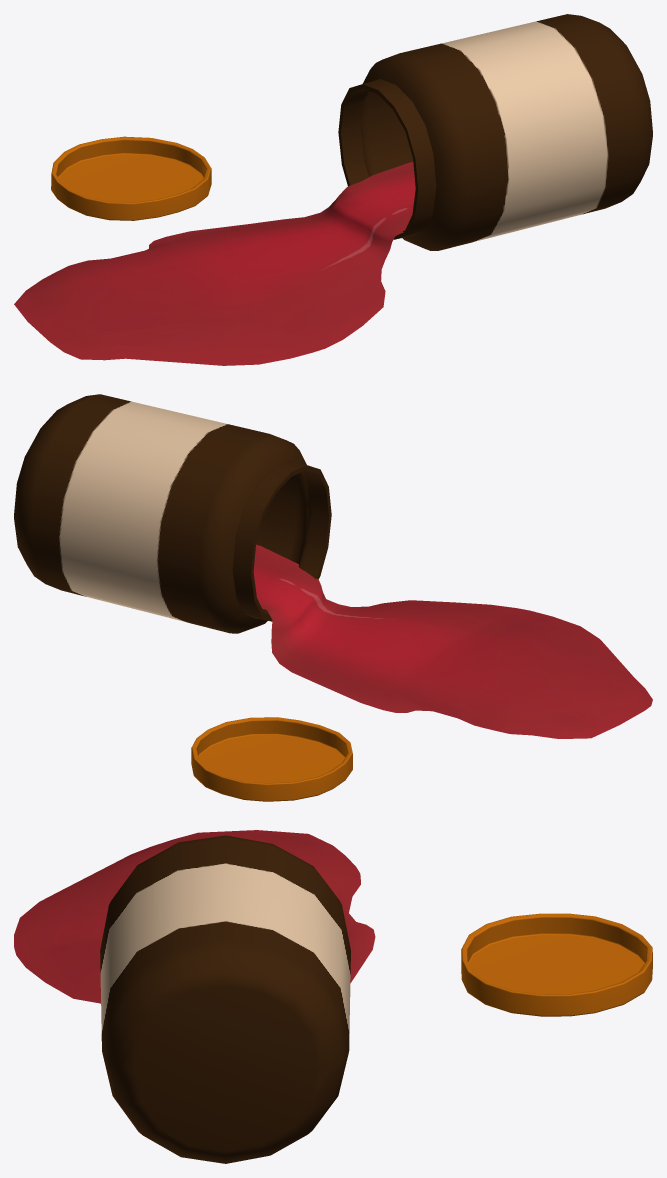
File: jam2.fbx
The picture shows the model from 3 angles, top to bottom: view 1: azimuth 30°, elevation 25°; view 2: azimuth 150°, elevation 25°; view 3: azimuth 270°, elevation 25°; orthographic projection. The views are drawn at different scales.
Visible parts, largest first — view 1: polySurface3, pCube5, polySurface4; view 2: polySurface3, pCube5, polySurface4; view 3: polySurface3, polySurface4, pCube5.
Boxes of the visible parts, left/top/right/bottom form: polySurface3: left=338, top=14, right=652, bottom=250; pCube5: left=14, top=162, right=415, bottom=365; polySurface4: left=51, top=136, right=211, bottom=220; polySurface3: left=14, top=394, right=331, bottom=633; pCube5: left=253, top=544, right=652, bottom=738; polySurface4: left=191, top=717, right=352, bottom=801; polySurface3: left=100, top=835, right=350, bottom=1163; polySurface4: left=461, top=913, right=652, bottom=1016; pCube5: left=14, top=830, right=375, bottom=1003.
Size of the model in its own units: 16.04 by 4.99 by 12.45.
